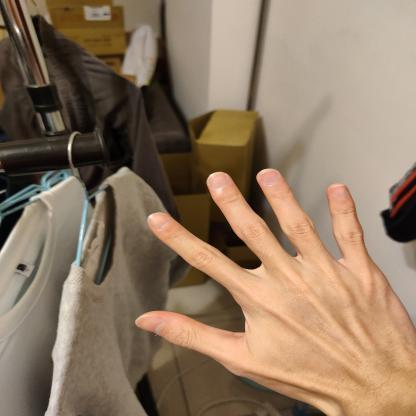bare_hand: (130, 158, 416, 416)
